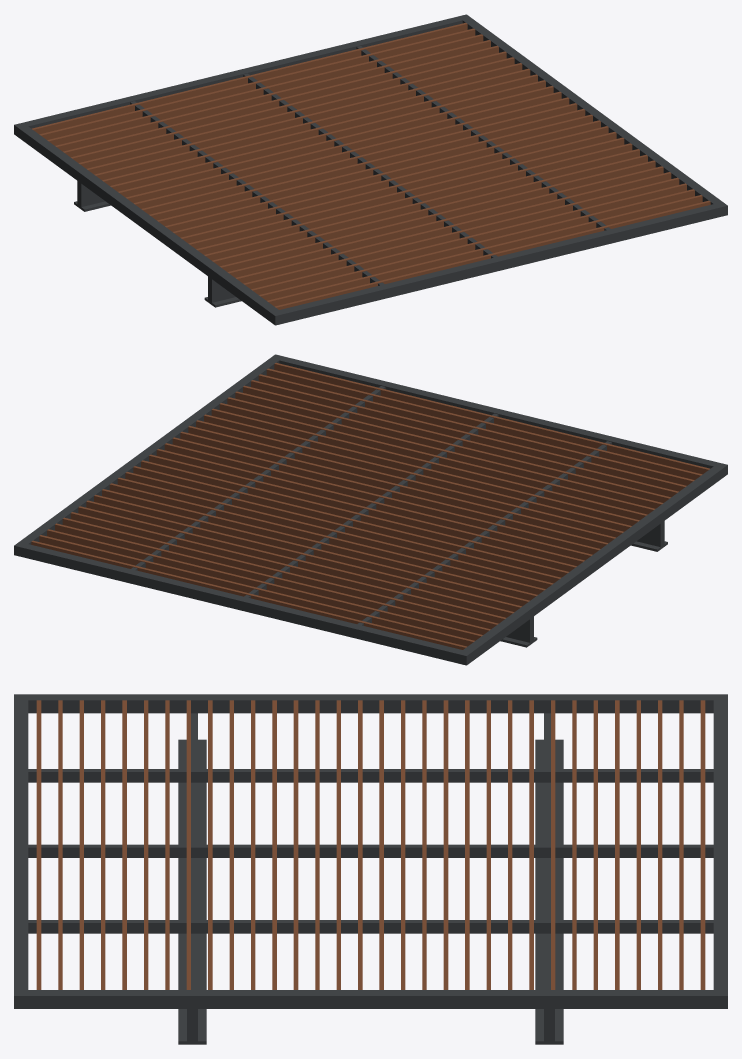
File: SM_Floor_Grate.fbx
The picture shows the model from 3 angles, top to bottom: view 1: azimuth 30°, elevation 25°; view 2: azimuth 150°, elevation 25°; view 3: azimuth 270°, elevation 25°; orthographic projection. The views are drawn at different scales.
Parts seen in each view (by area): view 1: SM_Floor_Grate; view 2: SM_Floor_Grate; view 3: SM_Floor_Grate.
Boxes of the visible parts, left/top/right/bottom form: SM_Floor_Grate: left=14, top=14, right=727, bottom=325; SM_Floor_Grate: left=14, top=354, right=727, bottom=665; SM_Floor_Grate: left=14, top=694, right=727, bottom=1044.
Size of what is drawn, in the model's own units: 4 by 0.3 by 4.
